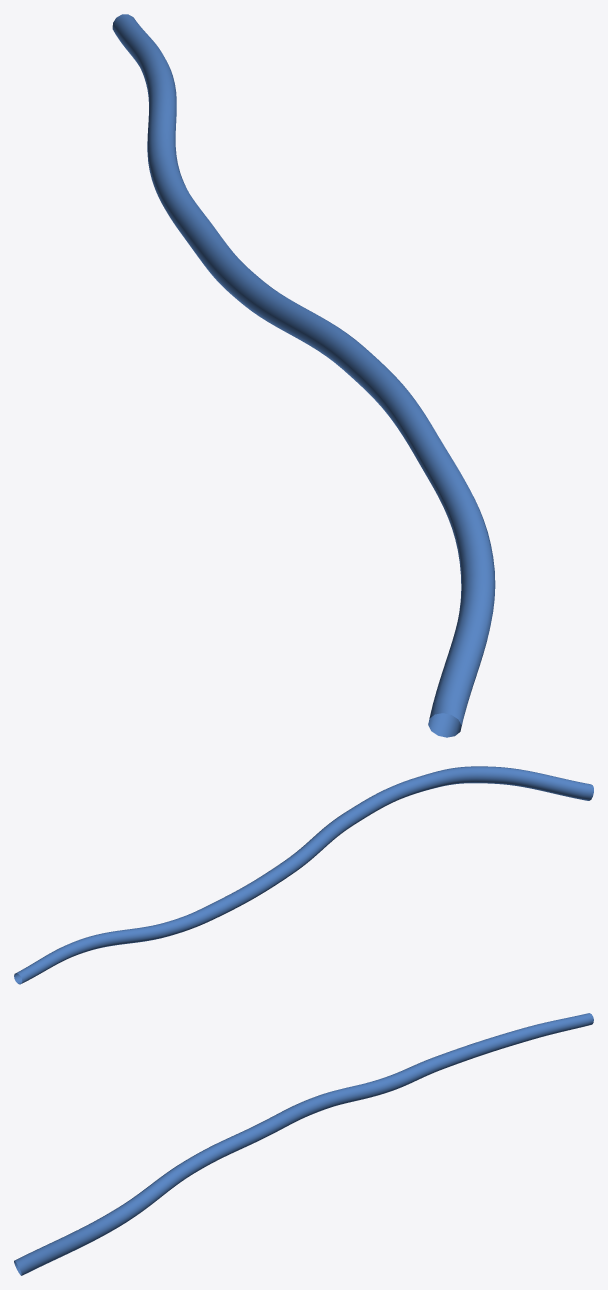
3 renders of one model, top to bottom at view 1: azimuth 30°, elevation 25°; view 2: azimuth 150°, elevation 25°; view 3: azimuth 330°, elevation 25°, orthographic. The views are drawn at different scales.
Visible parts, largest first — view 1: 左侧肱静脉; view 2: 左侧肱静脉; view 3: 左侧肱静脉.
Part boxes in pixels (x1,y1,x2,y2): 左侧肱静脉: [112, 14, 495, 737]; 左侧肱静脉: [14, 766, 593, 984]; 左侧肱静脉: [14, 1013, 593, 1275].
Size of the model in its own units: 0.1185 by 0.0372 by 0.3503.
